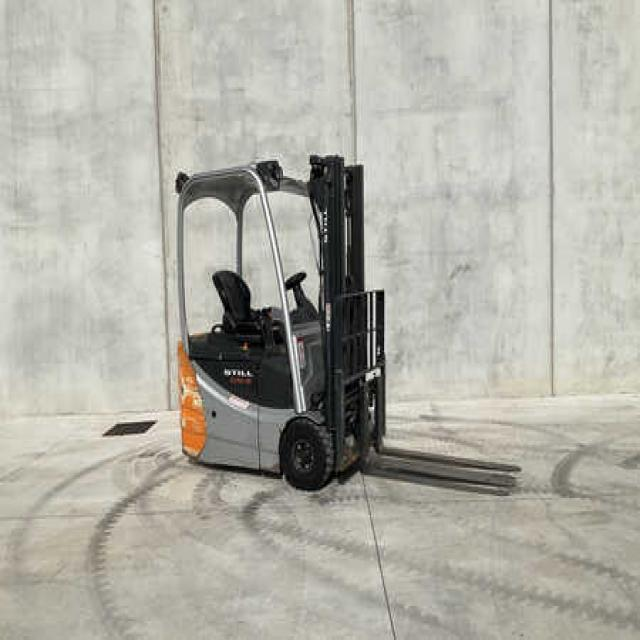forklift: (167, 125, 404, 502)
